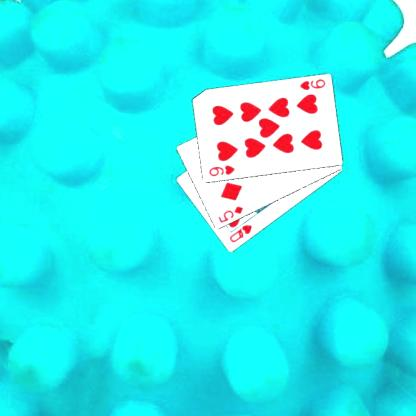5D: (215, 204, 244, 224)
9H: (206, 162, 236, 178), (296, 76, 326, 92)
QH: (226, 222, 254, 244)
